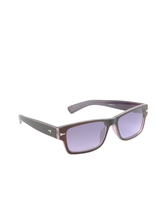glasses: (12, 98, 153, 148)
